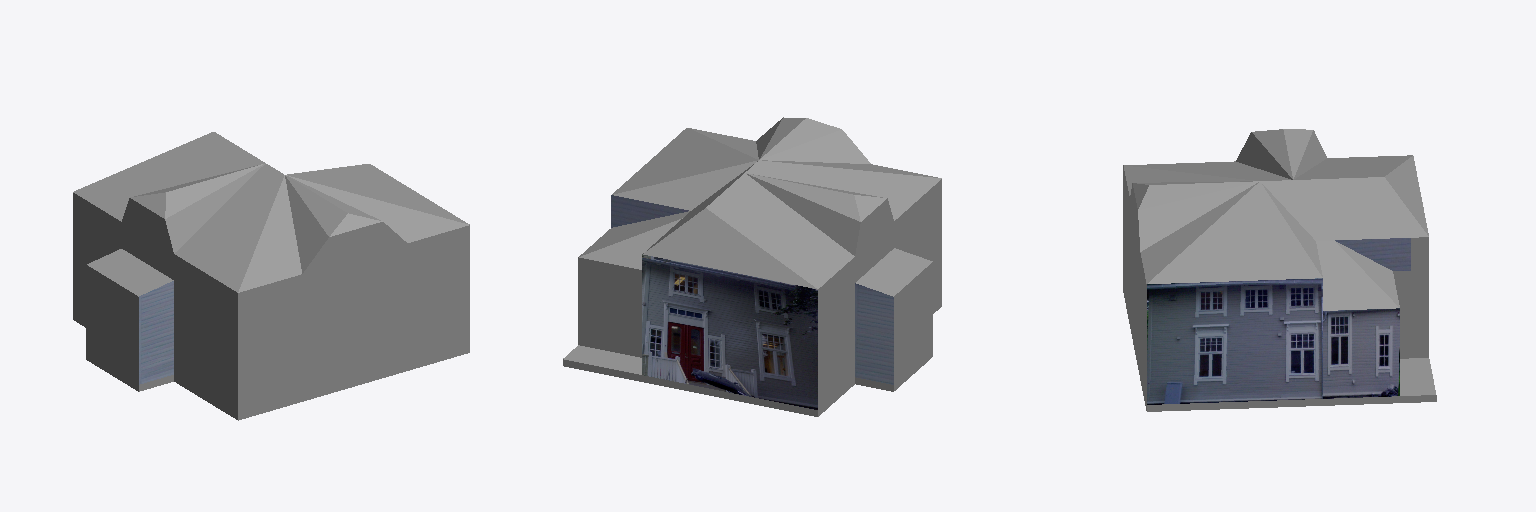
3 views of the same model, side by side, from view 1: azimuth 30°, elevation 25°; view 2: azimuth 150°, elevation 25°; view 3: azimuth 270°, elevation 25° (orthographic).
Visible parts, largest first — view 1: mesh1.001_mesh1-geometry; view 2: mesh1.001_mesh1-geometry; view 3: mesh1.001_mesh1-geometry.
Part boxes in pixels (bbox=[...]): mesh1.001_mesh1-geometry: bbox=[73, 132, 469, 420]; mesh1.001_mesh1-geometry: bbox=[563, 117, 941, 416]; mesh1.001_mesh1-geometry: bbox=[1123, 129, 1436, 411].
Size of the model in its own units: 16.53 by 8.97 by 15.16.
10 materials, 4 textured.